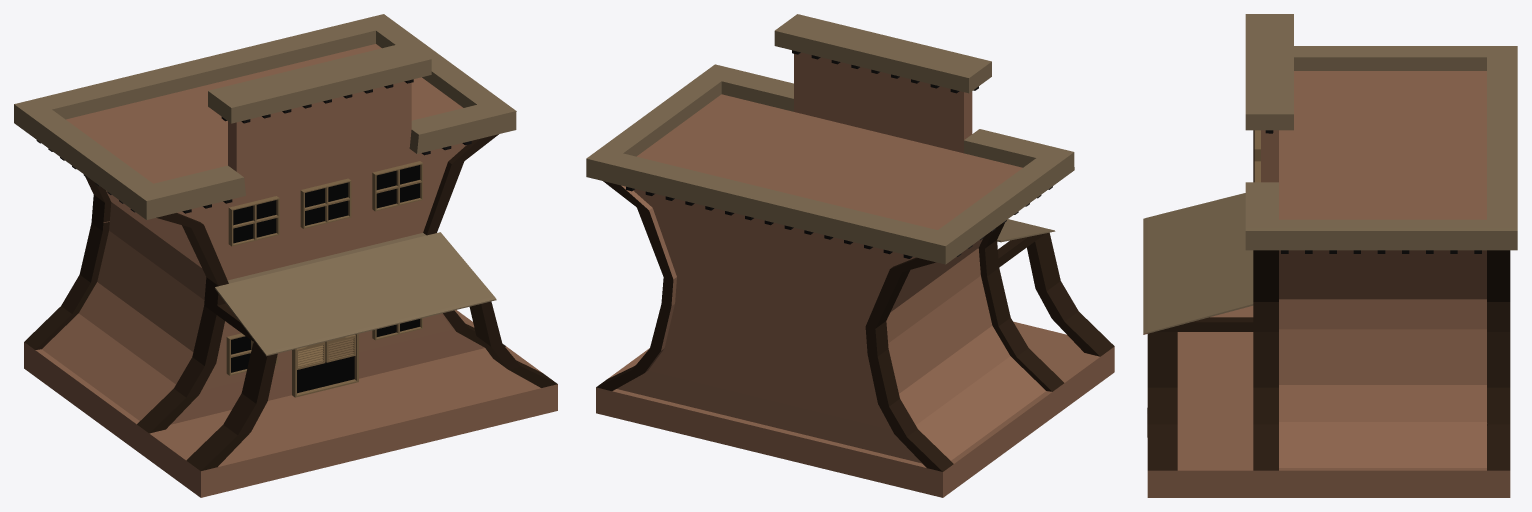
Rendered from Saloon.fbx.
3 renders of one model, left to right at view 1: azimuth 30°, elevation 25°; view 2: azimuth 150°, elevation 25°; view 3: azimuth 270°, elevation 25°, orthographic. The views are drawn at different scales.
Parts seen in each view (by area): view 1: Cube, Plane.003, Cube.006, Plane, Cube.002; view 2: Cube; view 3: Cube.
Boxes of the visible parts, x1,y1,x2,y2 form: Cube: (14, 14, 557, 497); Plane.003: (233, 165, 419, 243); Cube.006: (228, 161, 422, 246); Plane: (297, 356, 354, 393); Cube.002: (292, 334, 358, 397); Cube: (586, 14, 1114, 497); Cube: (1143, 14, 1517, 497).
Bounding box in the file's own units: 2900 × 2516 × 2479.
